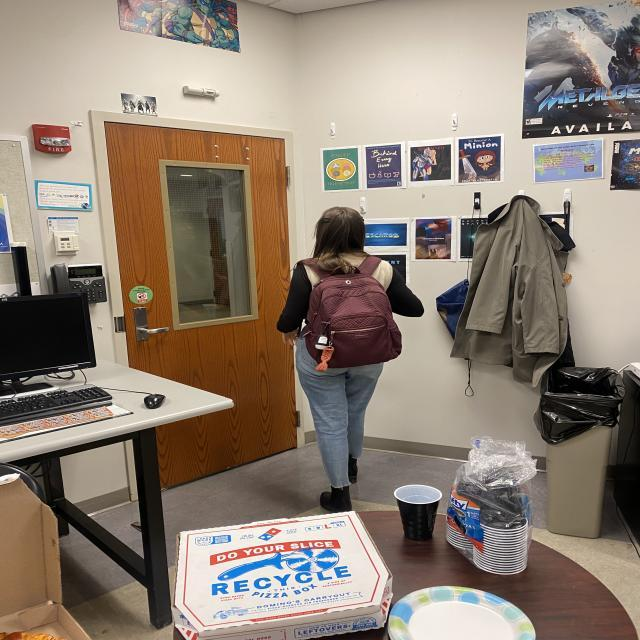Backpacks: (302, 274, 406, 368)
